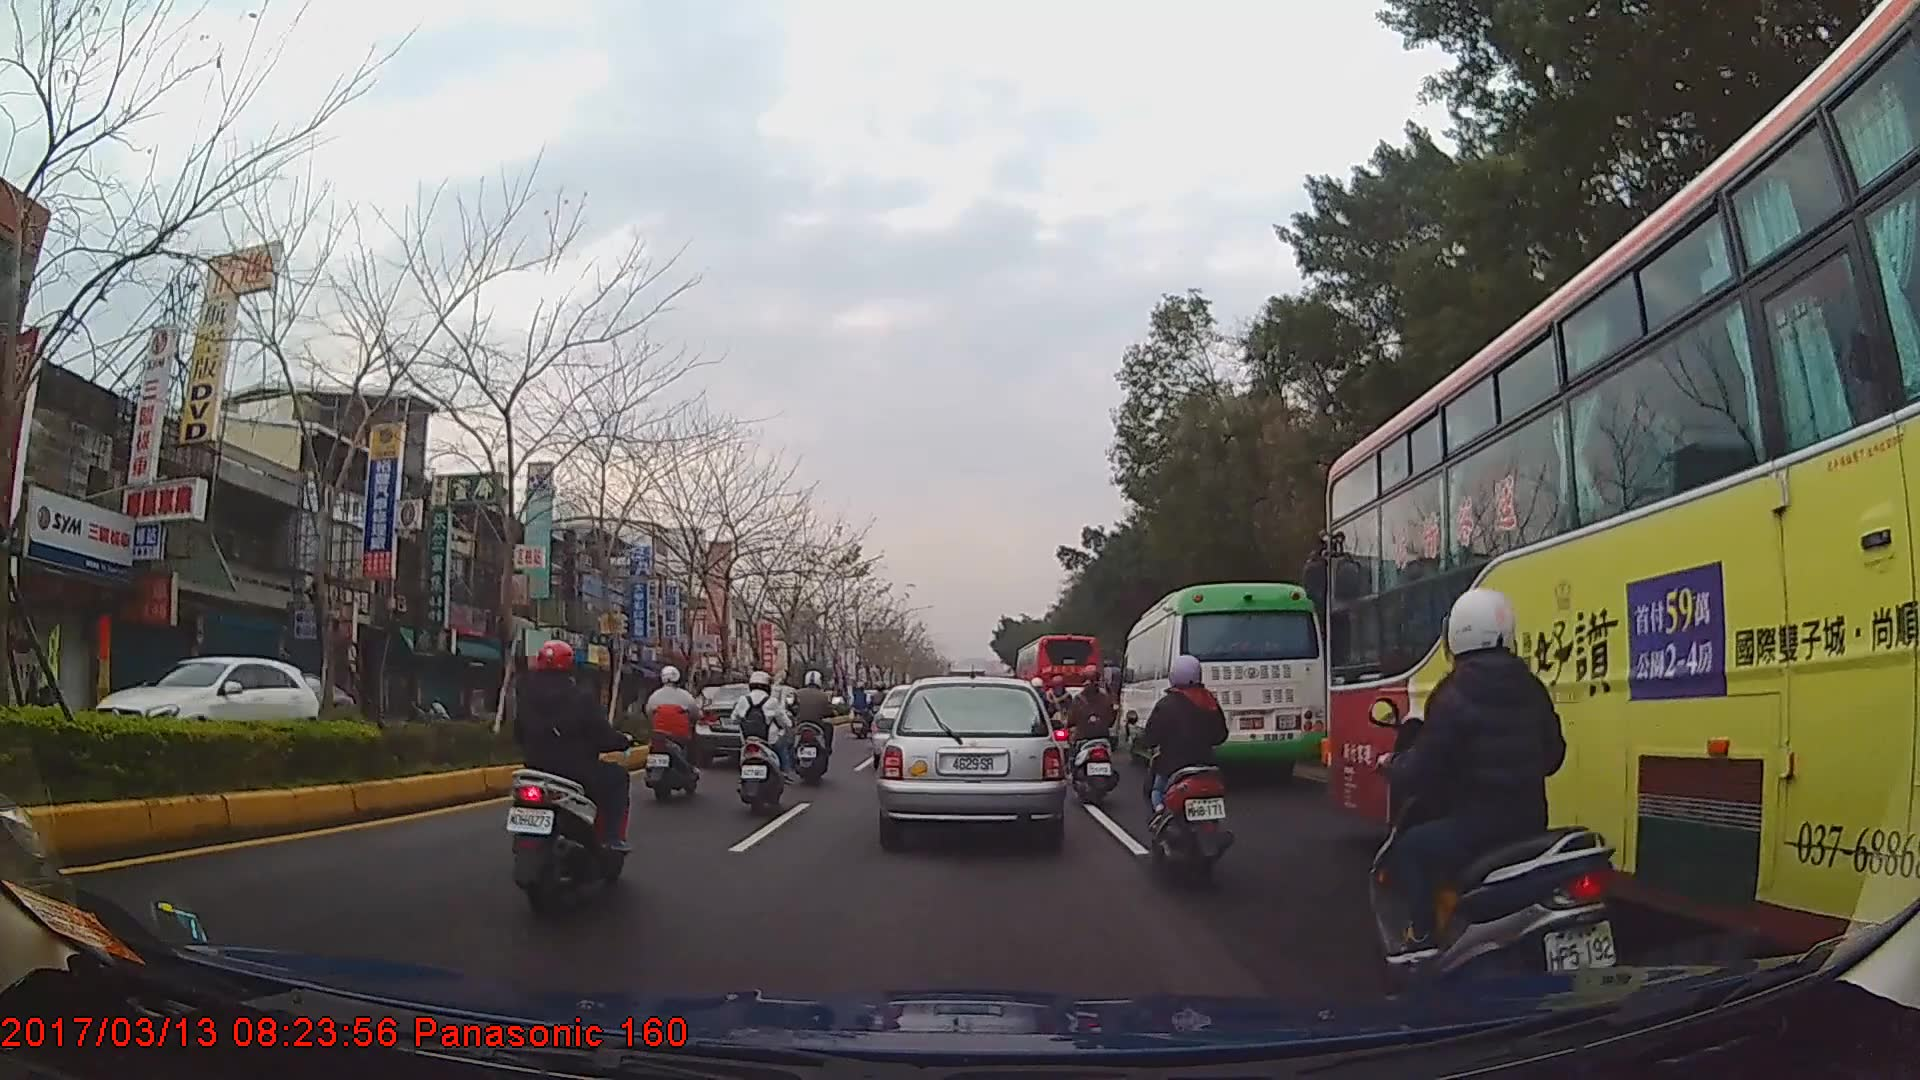rider: (1364, 585, 1629, 992), (506, 636, 630, 914), (1142, 650, 1244, 892), (643, 665, 708, 804), (731, 669, 791, 814), (1065, 666, 1118, 794), (790, 670, 838, 785), (870, 681, 890, 730), (851, 682, 872, 722)
vehicle: (1322, 0, 1919, 976), (1117, 582, 1325, 778), (877, 676, 1062, 842), (87, 650, 327, 764), (691, 682, 806, 771), (1015, 629, 1103, 736)
